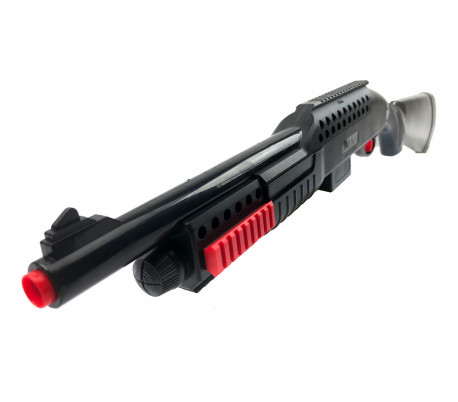Arma Falsa: (21, 77, 448, 310)
